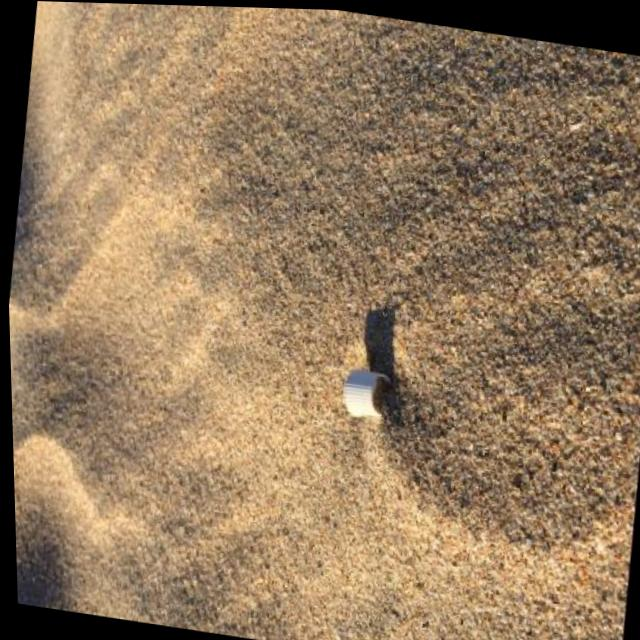plastic: (341, 367, 395, 422)
